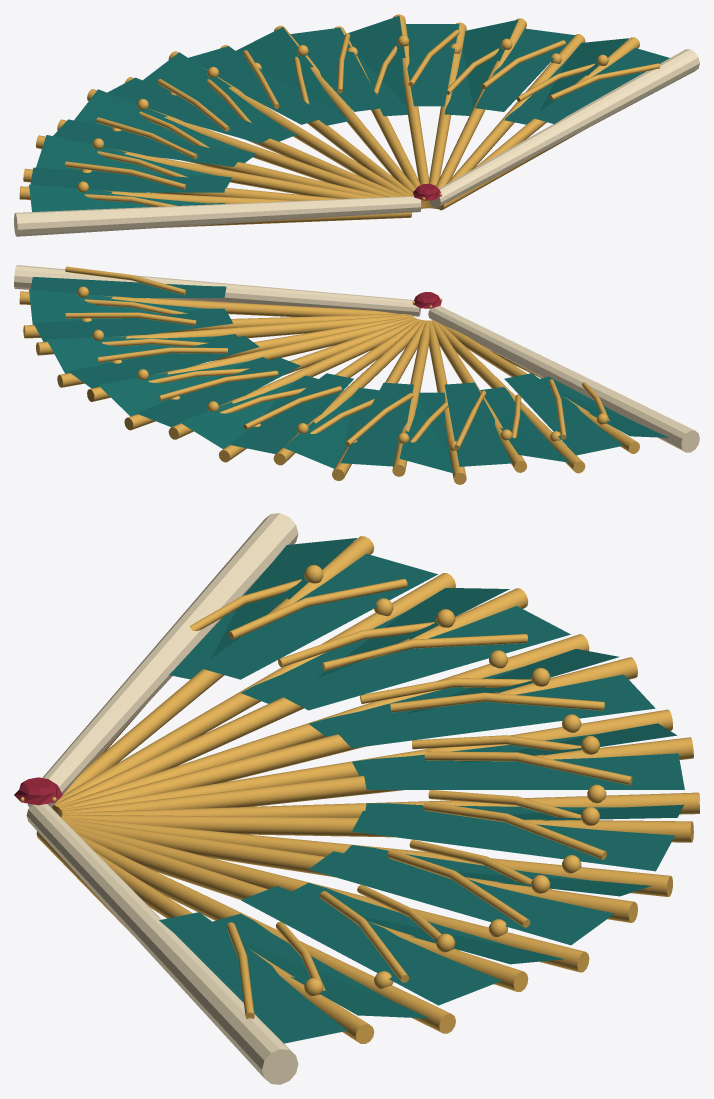
The model's file is jewelled_fan.fbx.
3 renders of one model, top to bottom at view 1: azimuth 30°, elevation 25°; view 2: azimuth 150°, elevation 25°; view 3: azimuth 270°, elevation 25°, orthographic. The views are drawn at different scales.
Parts seen in each view (by area): view 1: jewelled_fan joinery; view 2: jewelled_fan joinery; view 3: jewelled_fan joinery.
Part boxes in pixels (x1,y1,x2,y2): jewelled_fan joinery: (14, 14, 699, 236); jewelled_fan joinery: (14, 265, 699, 484); jewelled_fan joinery: (14, 513, 699, 1084).
Bounding box in the file's own units: 0.262 × 0.0136 × 0.1401.
